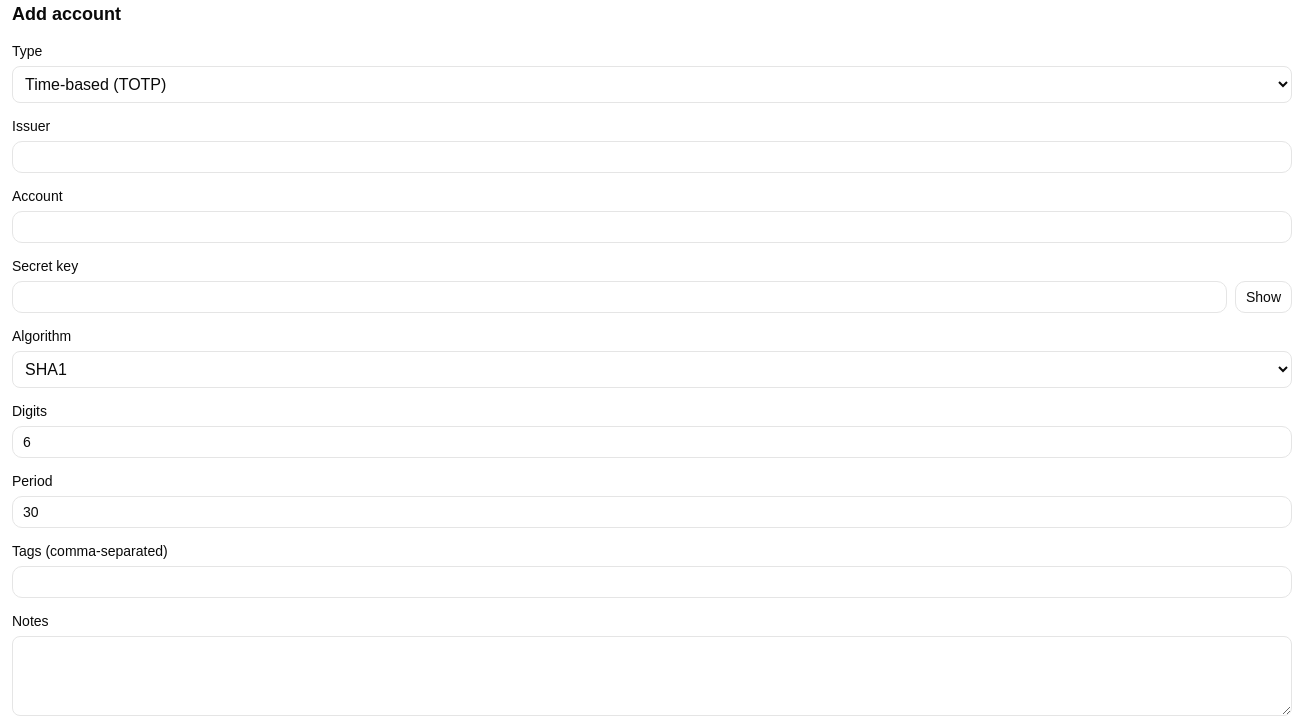
Scenario: adding an account › rejects parameters outside the schema's range
Type "me" into the field labelled "Account" at coordinates (652, 227), box [12,211,1292,243]
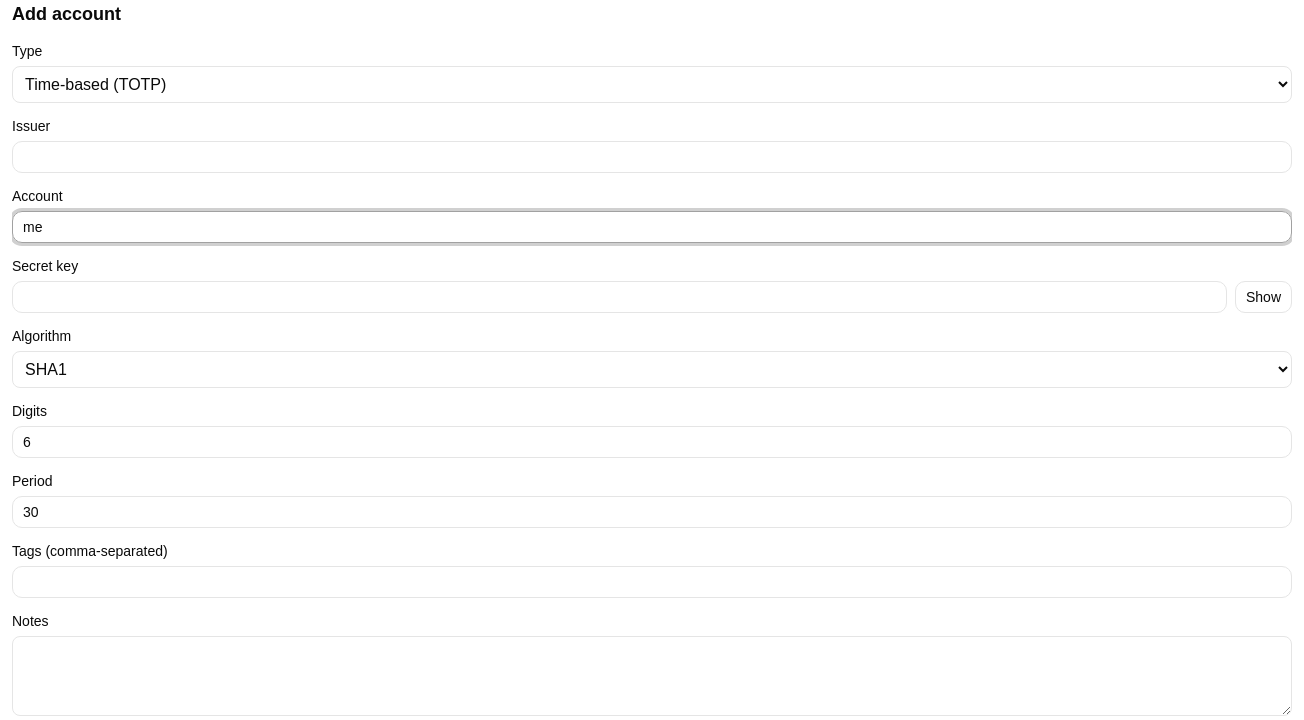
Type "JBSWY3DP" into the password field labelled "Secret key" at coordinates (620, 297), box [12,281,1227,313]
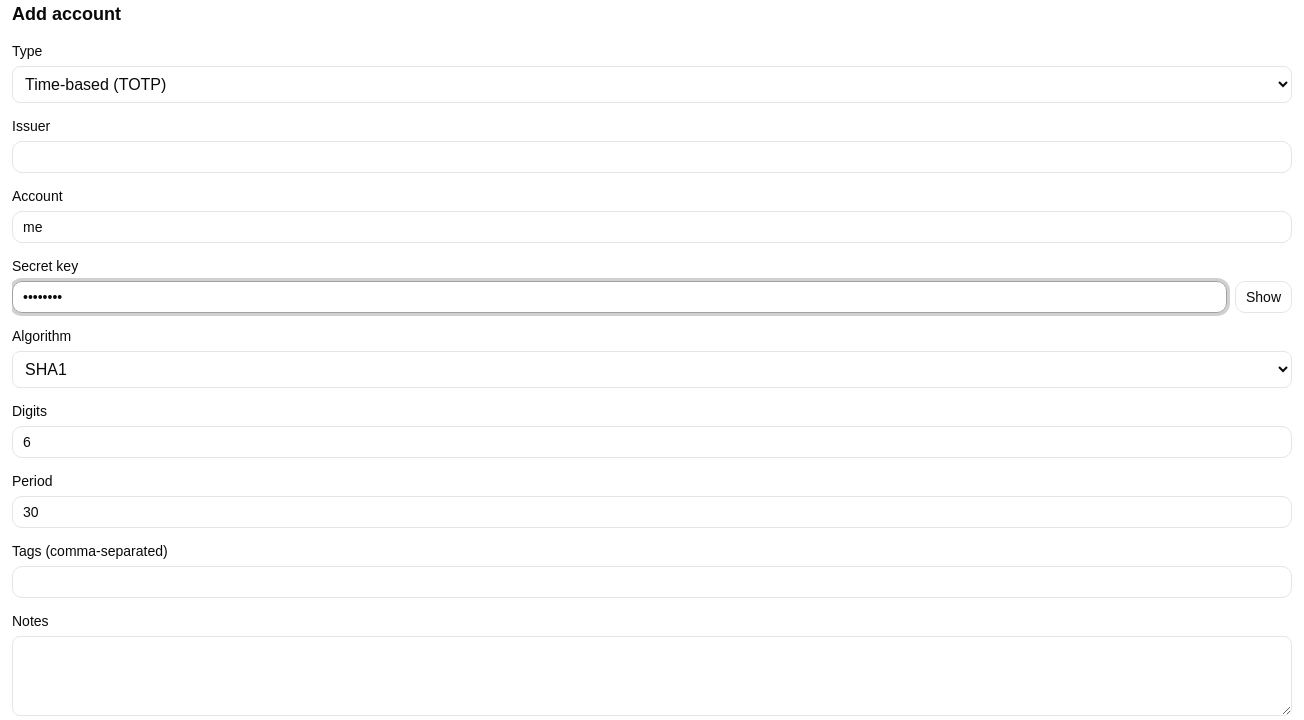
Replace the text in the number field labelled "Digits" with "9" at coordinates (652, 442), box [12,426,1292,458]
(page scrolled)
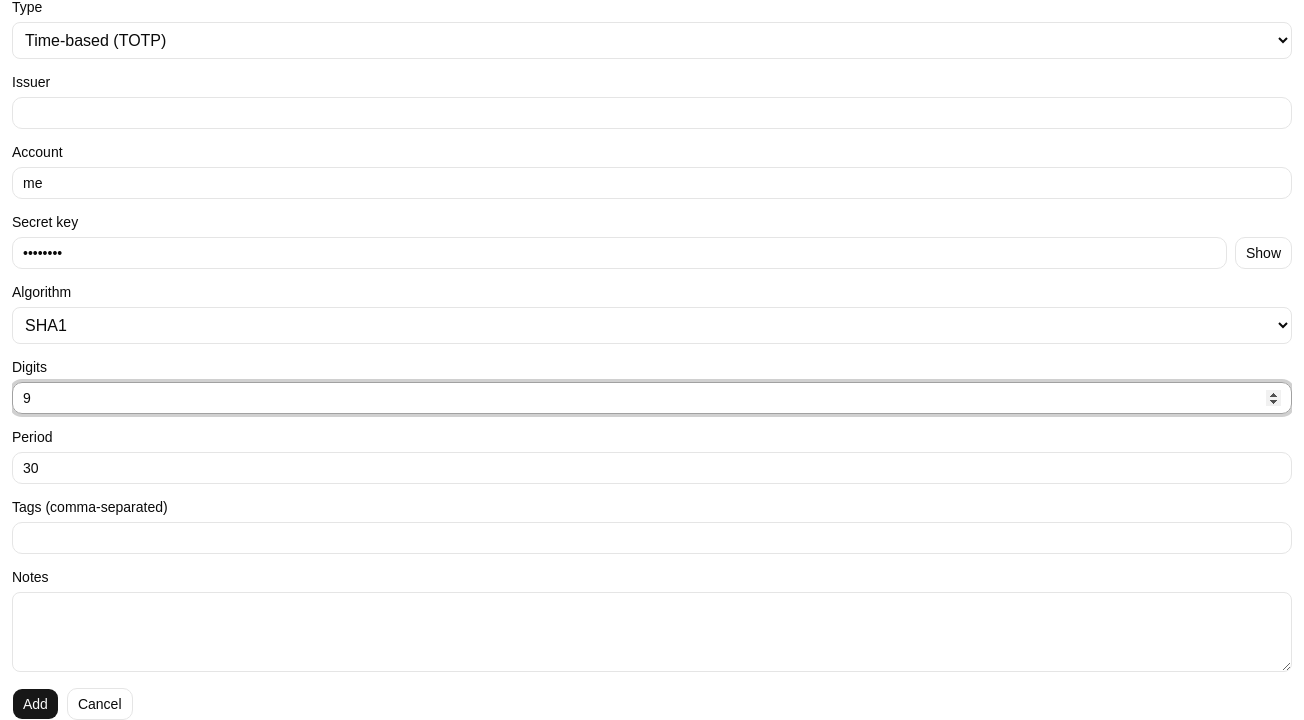
Click the button "Add" at coordinates (35, 704), box [12,688,59,719]
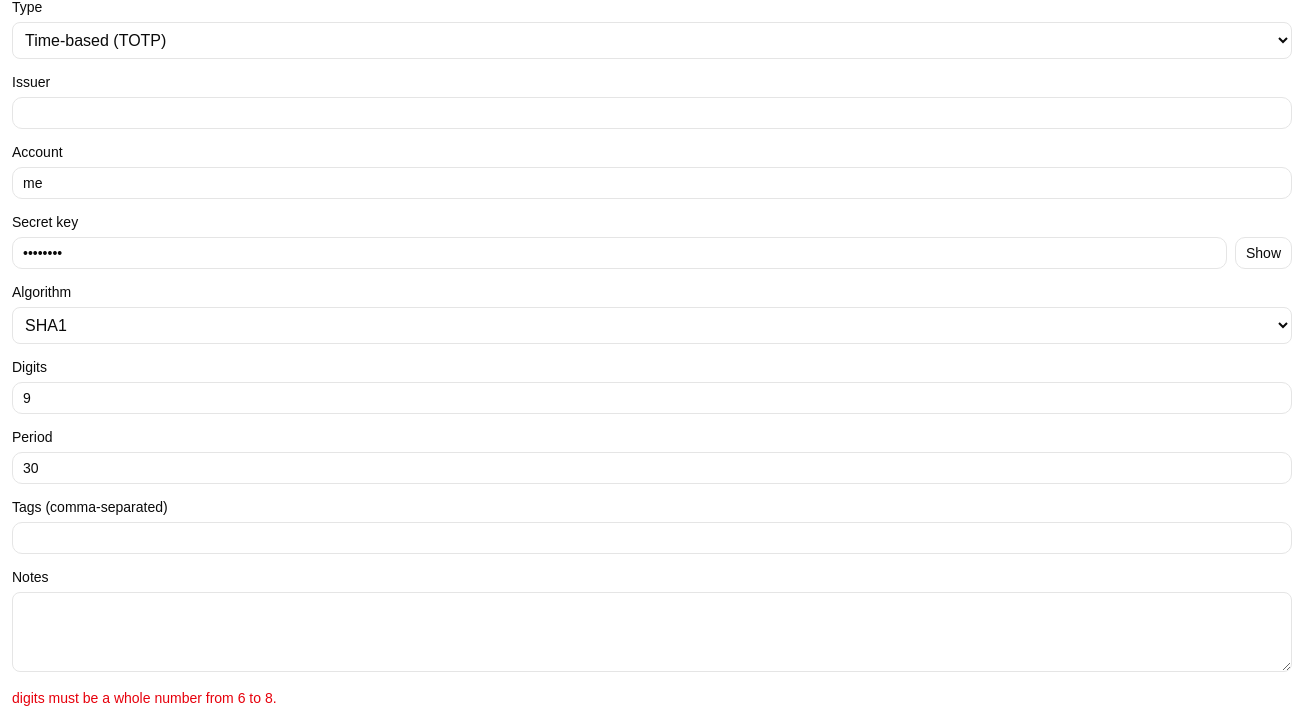
Expected: the message shows "digits", [12,690,277,706]
